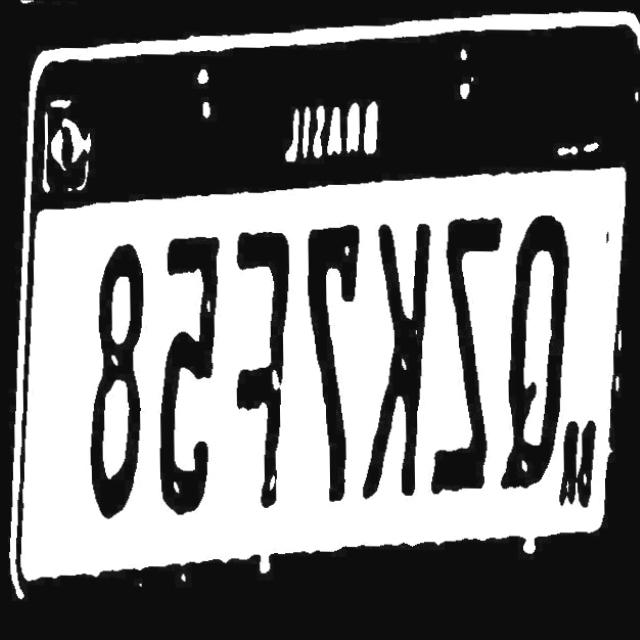5: (154, 233, 223, 515)
7: (306, 223, 363, 502)
8: (83, 242, 147, 519)
f: (233, 230, 291, 507)
k: (357, 219, 431, 498)
q: (496, 212, 572, 488)
z: (426, 215, 504, 493)
